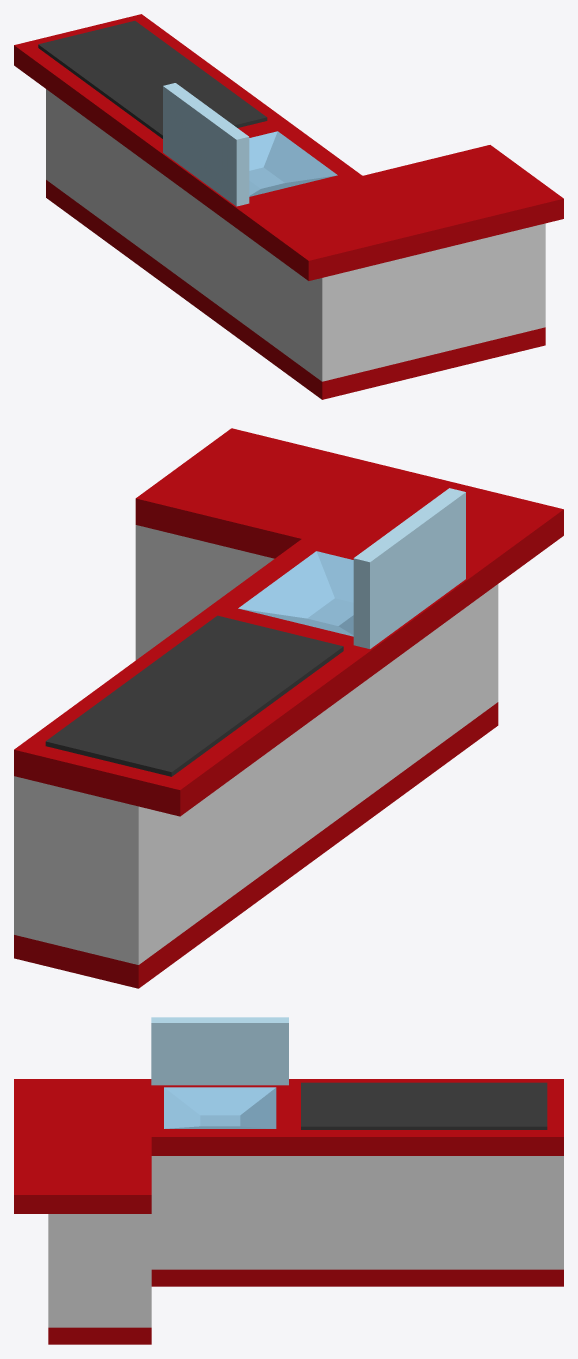
The model's file is counter.fbx.
The picture shows the model from 3 angles, top to bottom: view 1: azimuth 30°, elevation 25°; view 2: azimuth 150°, elevation 25°; view 3: azimuth 270°, elevation 25°; orthographic projection. The views are drawn at different scales.
Parts seen in each view (by area): view 1: Counter; view 2: Counter; view 3: Counter.
Boxes of the visible parts, <box> form: Counter: <box>14,14,563,399</box>; Counter: <box>14,428,563,988</box>; Counter: <box>14,1017,563,1344</box>.
Size of the model in its own units: 200 by 170 by 400.
